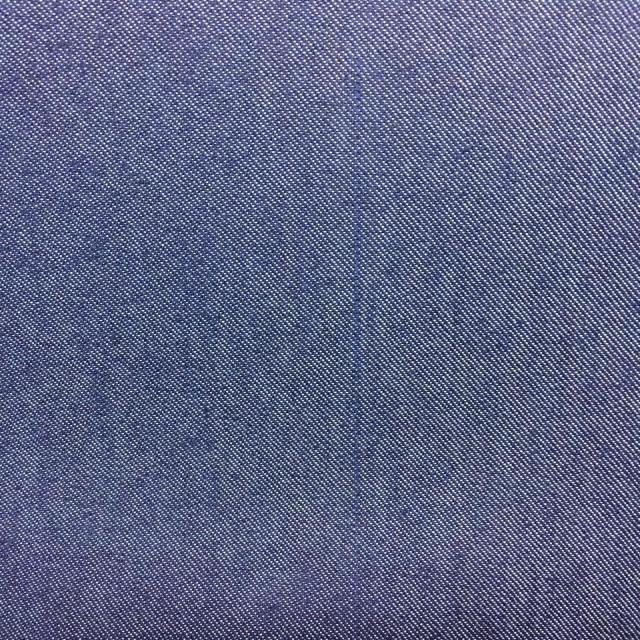Line: (350, 54, 365, 640)
